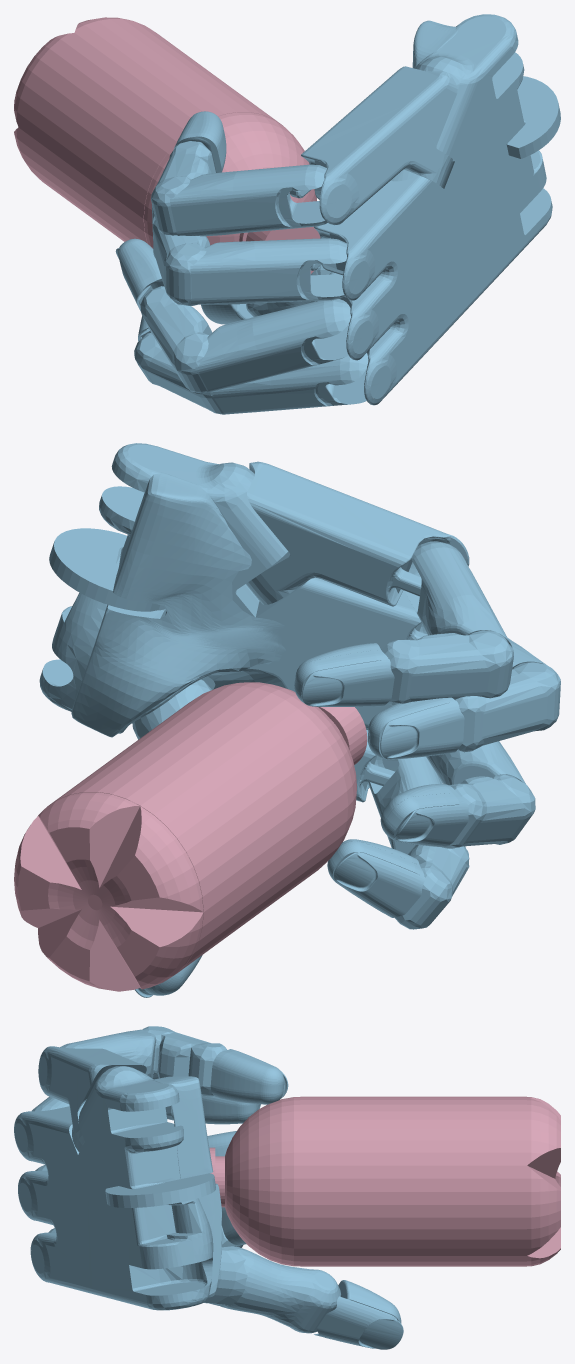
3 views of the same model, one above another, from view 1: azimuth 30°, elevation 25°; view 2: azimuth 150°, elevation 25°; view 3: azimuth 270°, elevation 25° (orthographic). The views are drawn at different scales.
Parts seen in each view (by area): view 1: world; view 2: world; view 3: world.
Boxes of the visible parts, x1,y1,x2,y2 form: world: (14, 14, 560, 414); world: (14, 443, 560, 997); world: (14, 1026, 560, 1349).
Size of the model in its own units: 0.1545 by 0.1265 by 0.1938.
